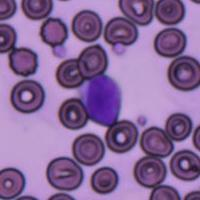L: (78, 74, 122, 127)
